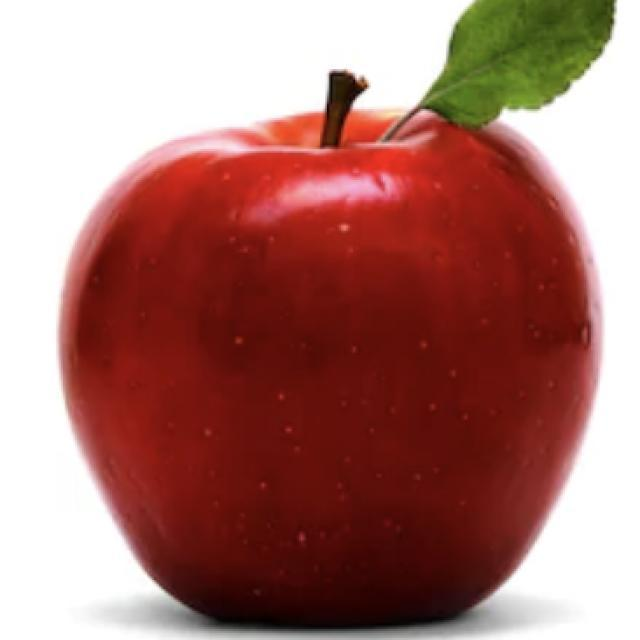Fresh Apple: (55, 100, 603, 620)
